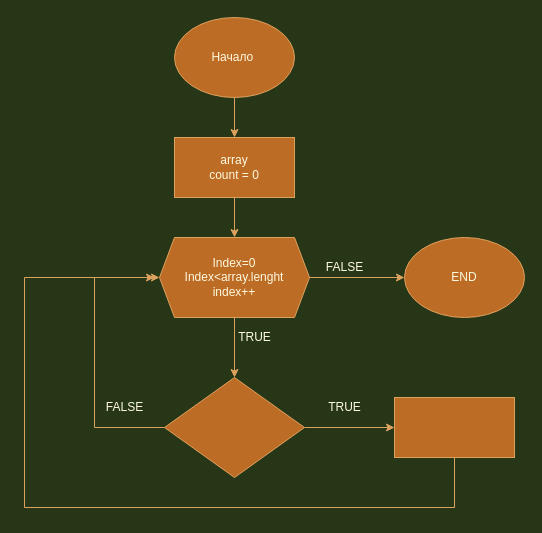
The diagram is 542 pixels wide and 533 high, and some of its shapes have lost their labels. Each missing label, with the centre of its shape:
count++: the point at 454,427
size(array_index)<4: the point at 234,427
